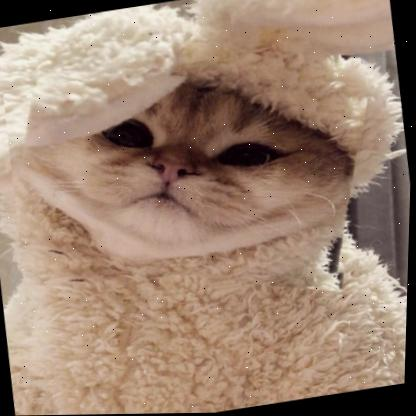cat: (0, 37, 383, 321)
